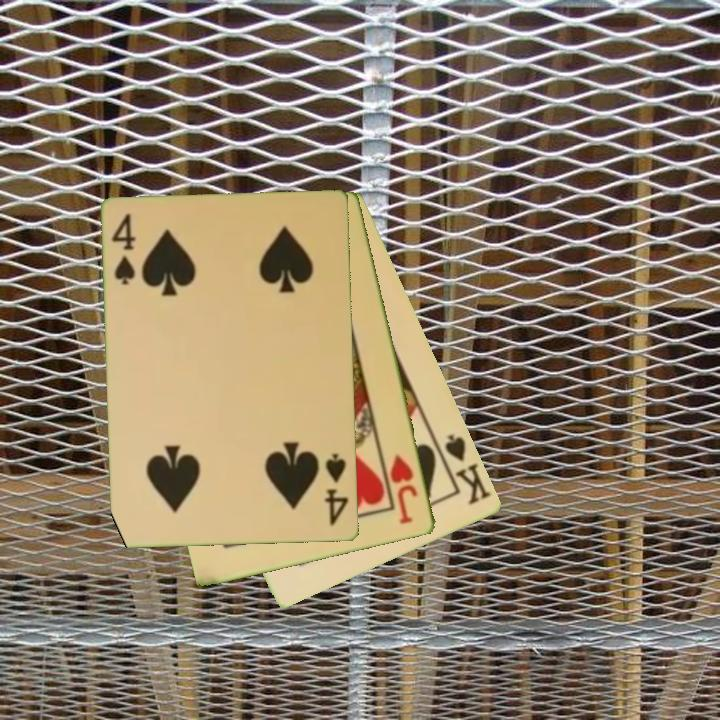4s: (321, 450, 352, 529), (109, 211, 139, 288)
Jh: (387, 450, 421, 528)
Ks: (442, 431, 495, 508)
